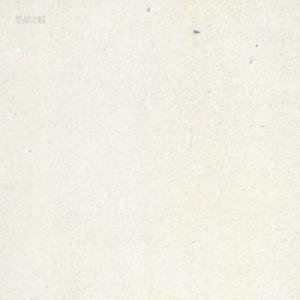Nail: (193, 29, 200, 34)
